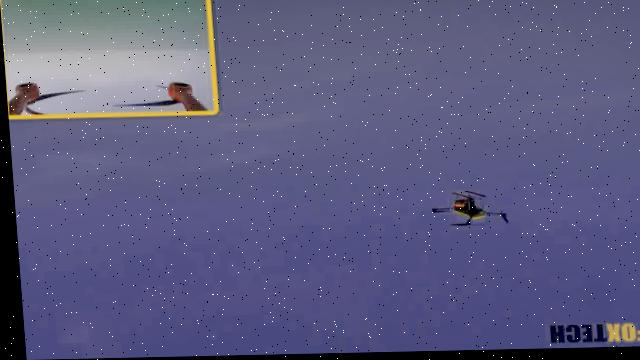drone: (425, 188, 512, 240)
